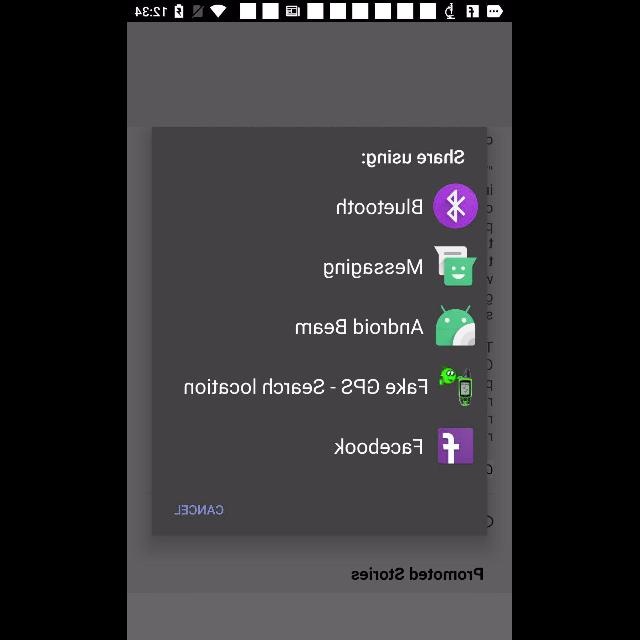icon: (434, 185, 478, 229), (438, 428, 474, 464)
image: (436, 306, 476, 346), (436, 247, 478, 285), (440, 366, 472, 406)
panel: (152, 127, 488, 535)
text: (185, 379, 428, 395), (296, 318, 424, 334), (325, 259, 423, 279), (363, 150, 465, 168), (352, 568, 483, 580), (335, 438, 423, 454), (338, 199, 422, 215), (174, 506, 223, 514)
uppertaskbar: (128, 1, 512, 23)
